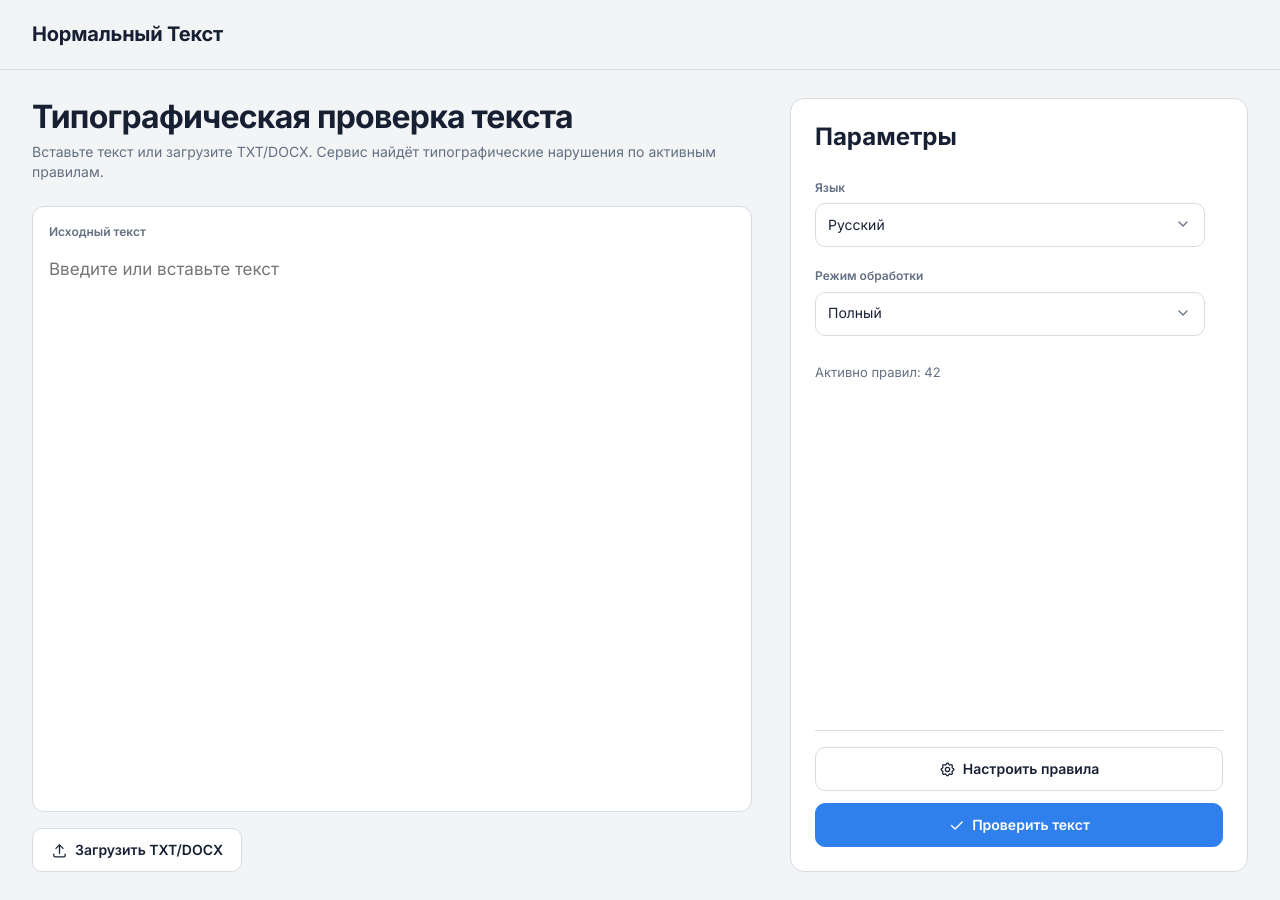
Test: Requirement 1: text validation and processing › text with typographic violations opens Review with detected changes
The image size is (1280, 900).
In the text box labelled "Исходный текст": [392, 527] box x1=49 y1=257 x2=735 y2=796, type "Он сказал \"привет\"...  Вес 15 кг, диапазон 10 - 15."
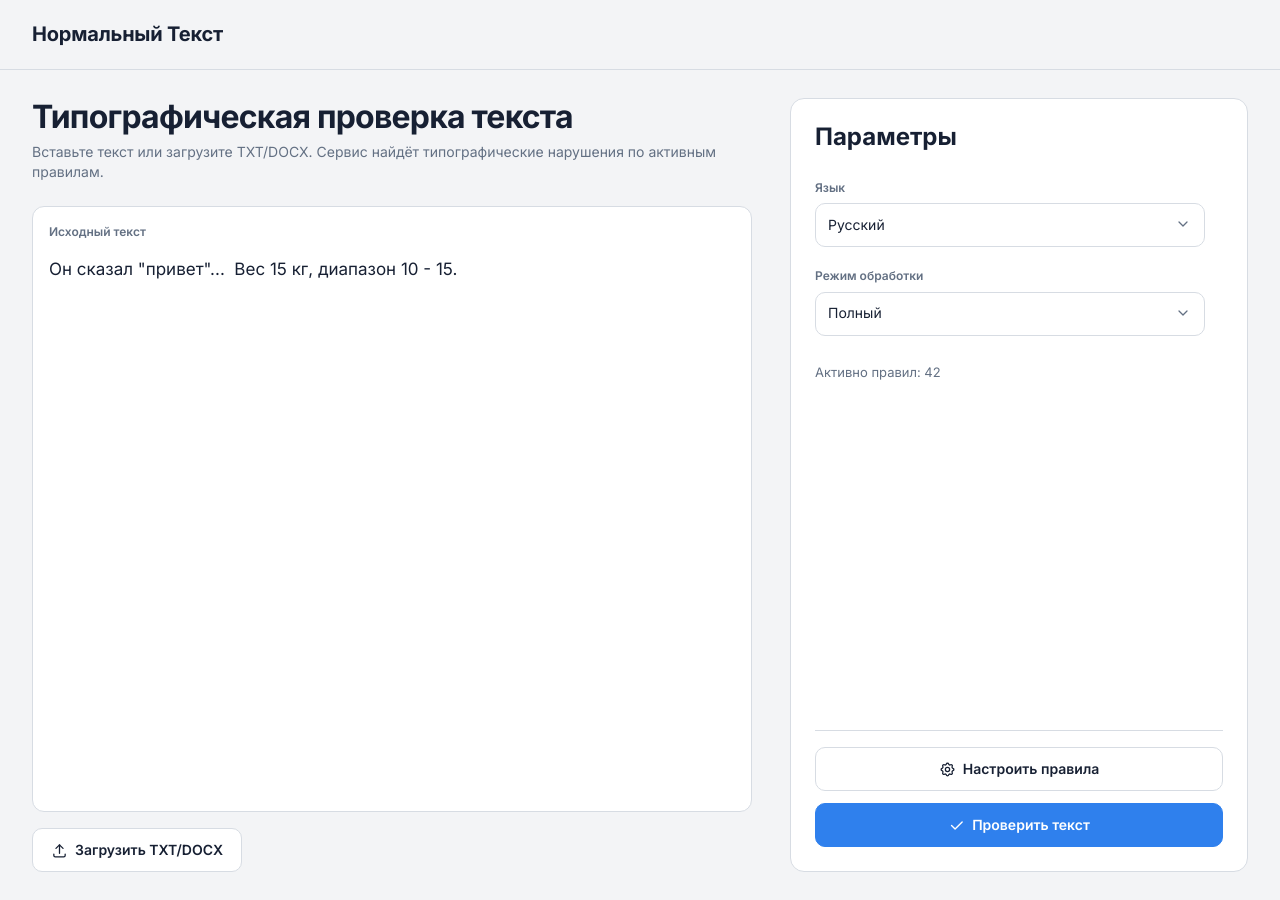
Click the button "Проверить текст": [1019, 825] box x1=815 y1=803 x2=1223 y2=847
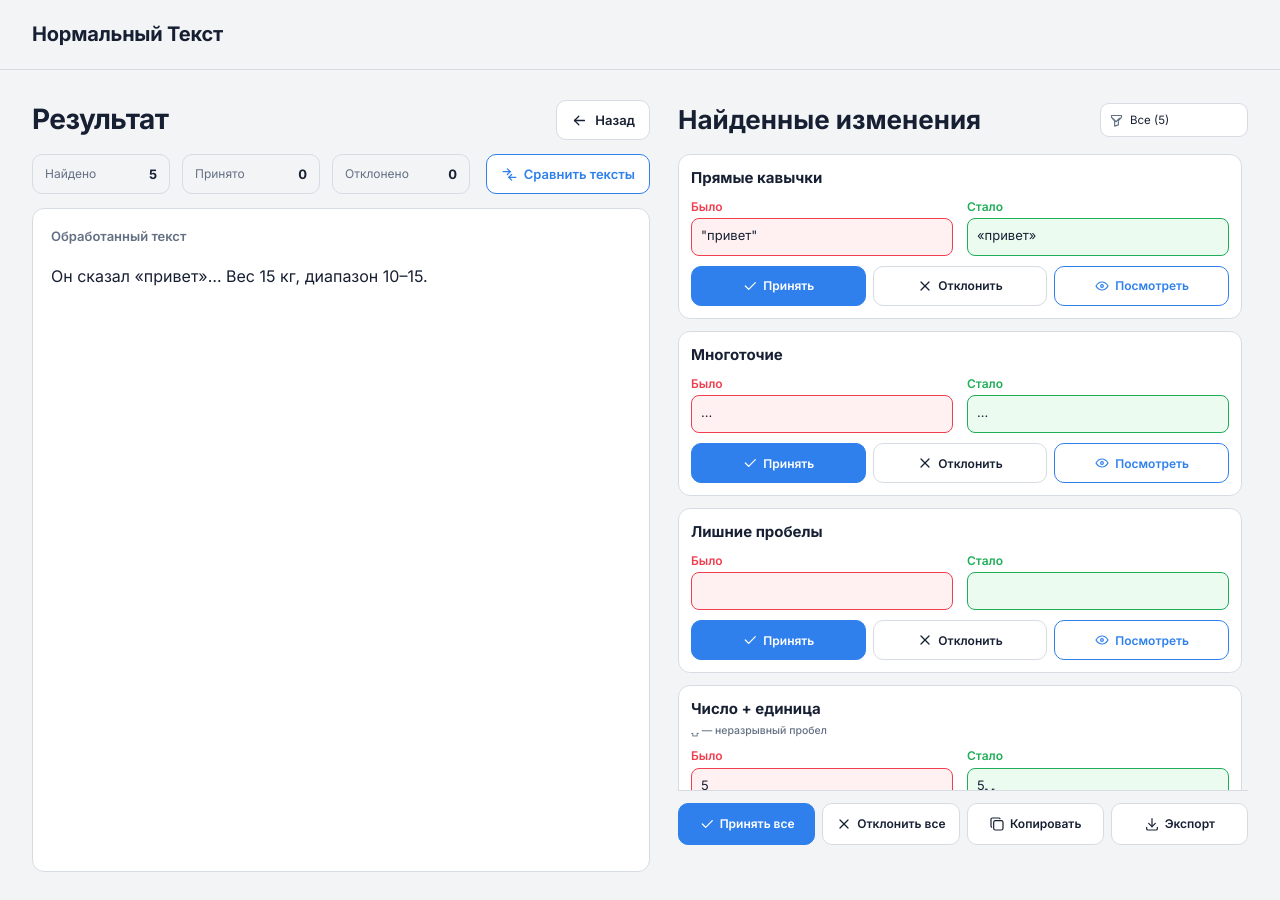
Check: the heading "Результат" is shown, box x1=32 y1=103 x2=168 y2=137
Check: the heading "Найденные изменения" is shown, box x1=678 y1=104 x2=981 y2=136
Check: the heading "Прямые кавычки" is shown, box x1=691 y1=167 x2=822 y2=189
